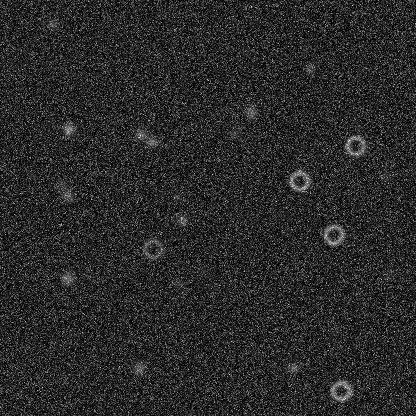Ring: (343, 133, 367, 157), (287, 168, 311, 192), (140, 236, 164, 260), (321, 222, 345, 246), (328, 378, 352, 402)
Spot: (381, 266, 397, 282), (169, 275, 185, 291), (227, 124, 243, 140), (377, 167, 393, 183), (169, 189, 185, 205), (302, 60, 318, 76), (174, 211, 190, 227), (132, 126, 148, 142), (60, 187, 76, 203), (191, 264, 207, 280), (242, 104, 258, 120), (44, 16, 60, 32), (59, 270, 75, 286), (285, 359, 301, 375), (131, 359, 147, 375), (51, 177, 67, 193), (328, 322, 344, 338), (60, 120, 76, 136), (143, 133, 159, 149)
